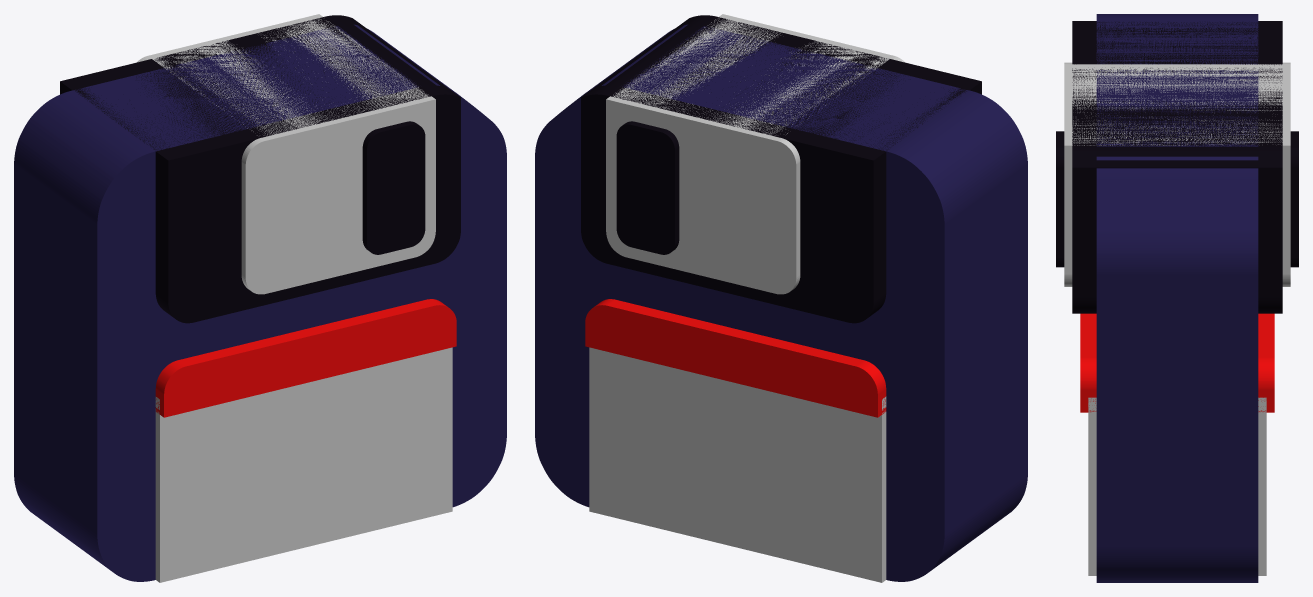
3 views of the same model, side by side, from view 1: azimuth 30°, elevation 25°; view 2: azimuth 150°, elevation 25°; view 3: azimuth 270°, elevation 25° (orthographic). The views are drawn at different scales.
Parts seen in each view (by area): view 1: U+1F4BE_layer00_obj00, U+1F4BE_layer01_obj00, U+1F4BE_layer03_obj00, U+1F4BE_layer04_obj00, U+1F4BE_layer02_obj00, U+1F4BE_layer05_obj00; view 2: U+1F4BE_layer00_obj00, U+1F4BE_layer01_obj00, U+1F4BE_layer03_obj00, U+1F4BE_layer04_obj00, U+1F4BE_layer02_obj00, U+1F4BE_layer05_obj00; view 3: U+1F4BE_layer00_obj00, U+1F4BE_layer03_obj00, U+1F4BE_layer04_obj00, U+1F4BE_layer01_obj00, U+1F4BE_layer02_obj00, U+1F4BE_layer05_obj00.
Boxes of the visible parts, x1,y1,x2,y2 form: U+1F4BE_layer00_obj00: [14, 24, 506, 581]; U+1F4BE_layer01_obj00: [155, 347, 452, 582]; U+1F4BE_layer03_obj00: [60, 15, 460, 323]; U+1F4BE_layer04_obj00: [137, 14, 435, 294]; U+1F4BE_layer02_obj00: [155, 299, 456, 417]; U+1F4BE_layer05_obj00: [362, 121, 425, 254]; U+1F4BE_layer00_obj00: [535, 24, 1027, 581]; U+1F4BE_layer01_obj00: [589, 347, 886, 582]; U+1F4BE_layer03_obj00: [581, 15, 981, 323]; U+1F4BE_layer04_obj00: [606, 14, 904, 294]; U+1F4BE_layer02_obj00: [585, 299, 886, 417]; U+1F4BE_layer05_obj00: [616, 121, 679, 254]; U+1F4BE_layer00_obj00: [1096, 14, 1258, 582]; U+1F4BE_layer03_obj00: [1072, 21, 1282, 313]; U+1F4BE_layer04_obj00: [1064, 62, 1290, 286]; U+1F4BE_layer01_obj00: [1088, 397, 1266, 575]; U+1F4BE_layer02_obj00: [1080, 313, 1274, 412]; U+1F4BE_layer05_obj00: [1056, 131, 1298, 267].
Bounding box in the file's own units: 0.5678 × 0.5677 × 0.3.
